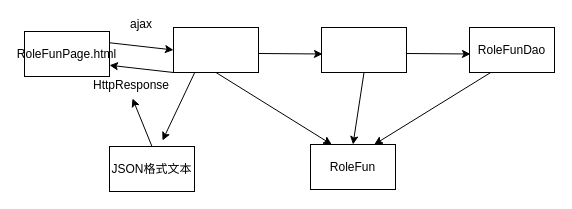
Some shapes in this 572 by 209 pixel diagram are drawn without their labels. Each missing label, with the centre of its shape:
"RoleFunController" goes at pixel 215 49.
"RoleFunService" goes at pixel 363 49.
